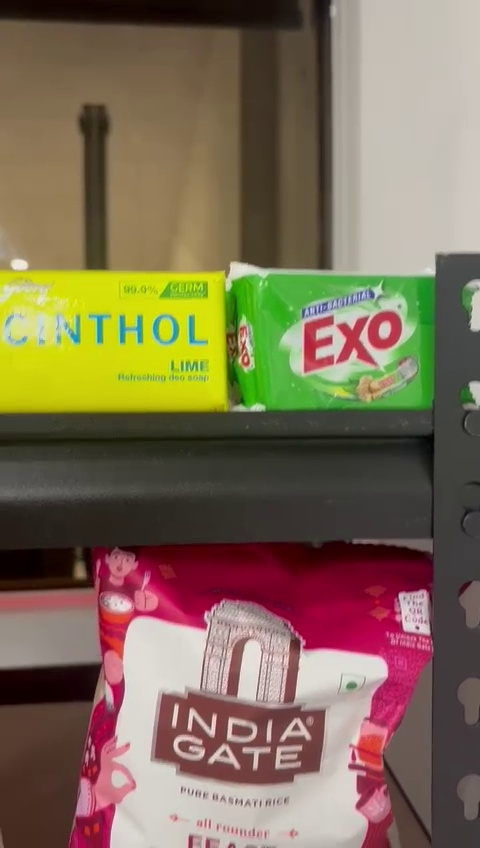Cinthol: (0, 272, 225, 408)
Exo Soap: (234, 270, 434, 405)
